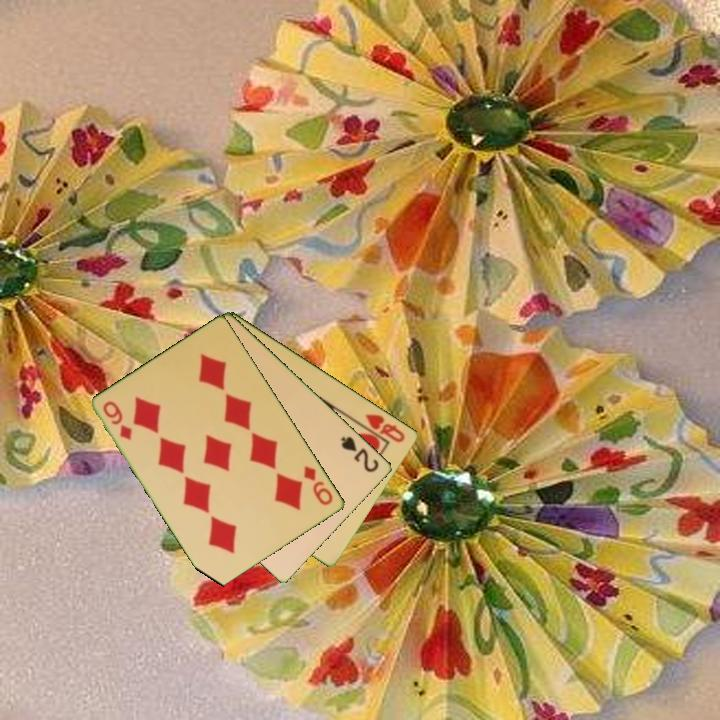2s: (337, 432, 382, 475)
9d: (300, 462, 336, 508), (100, 397, 135, 443)
Qh: (362, 410, 408, 446)
